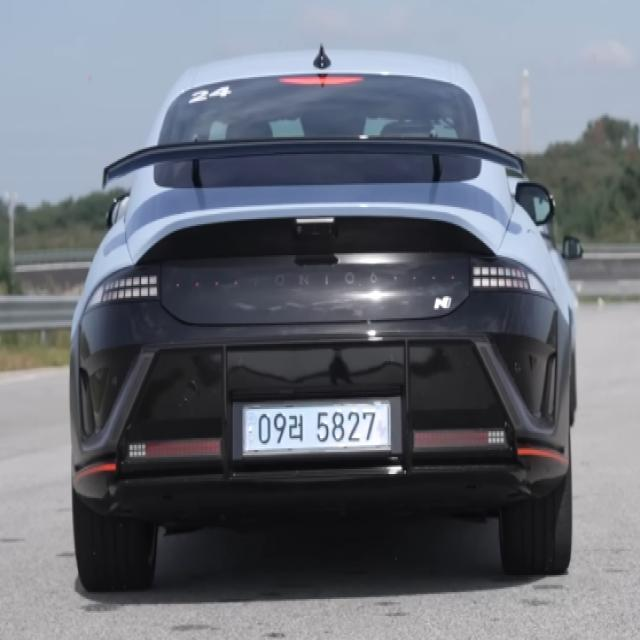car: (219, 376, 424, 481)
carev: (236, 400, 259, 460), (373, 397, 395, 459)
